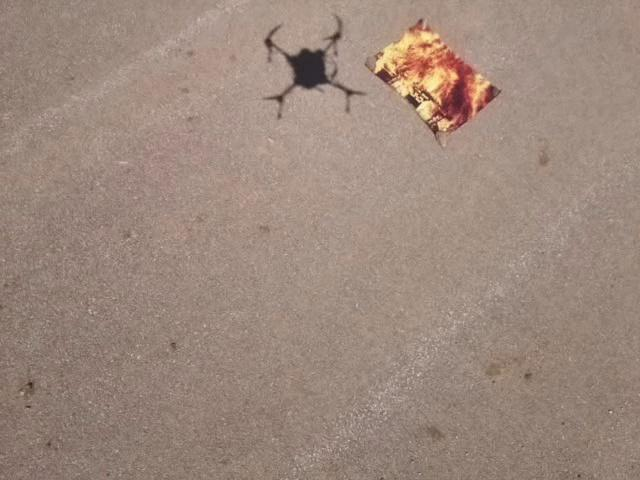fire-poster: (364, 15, 503, 149)
